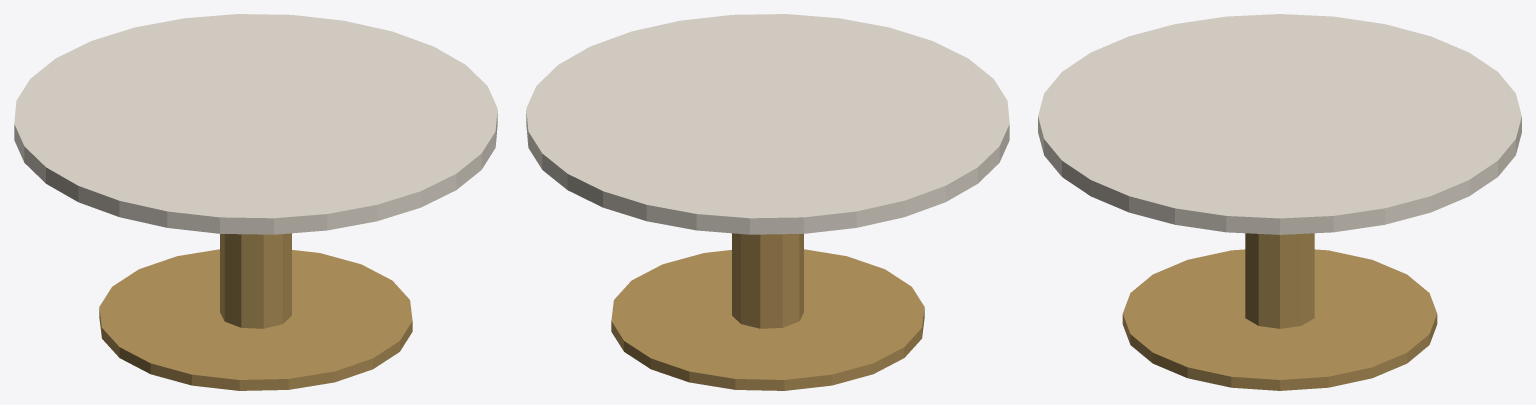
Rendered from mesa_centro_redonda.obj.
3 views of the same model, side by side, from view 1: azimuth 30°, elevation 25°; view 2: azimuth 150°, elevation 25°; view 3: azimuth 270°, elevation 25° (orthographic).
Visible parts, largest first — view 1: mesa_centro_redonda; view 2: mesa_centro_redonda; view 3: mesa_centro_redonda.
Boxes of the visible parts, x1=… form: mesa_centro_redonda: x1=14, y1=14, x2=497, y2=390; mesa_centro_redonda: x1=526, y1=14, x2=1009, y2=390; mesa_centro_redonda: x1=1038, y1=14, x2=1521, y2=390.
Bounding box in the file's own units: 80 × 38 × 80.
